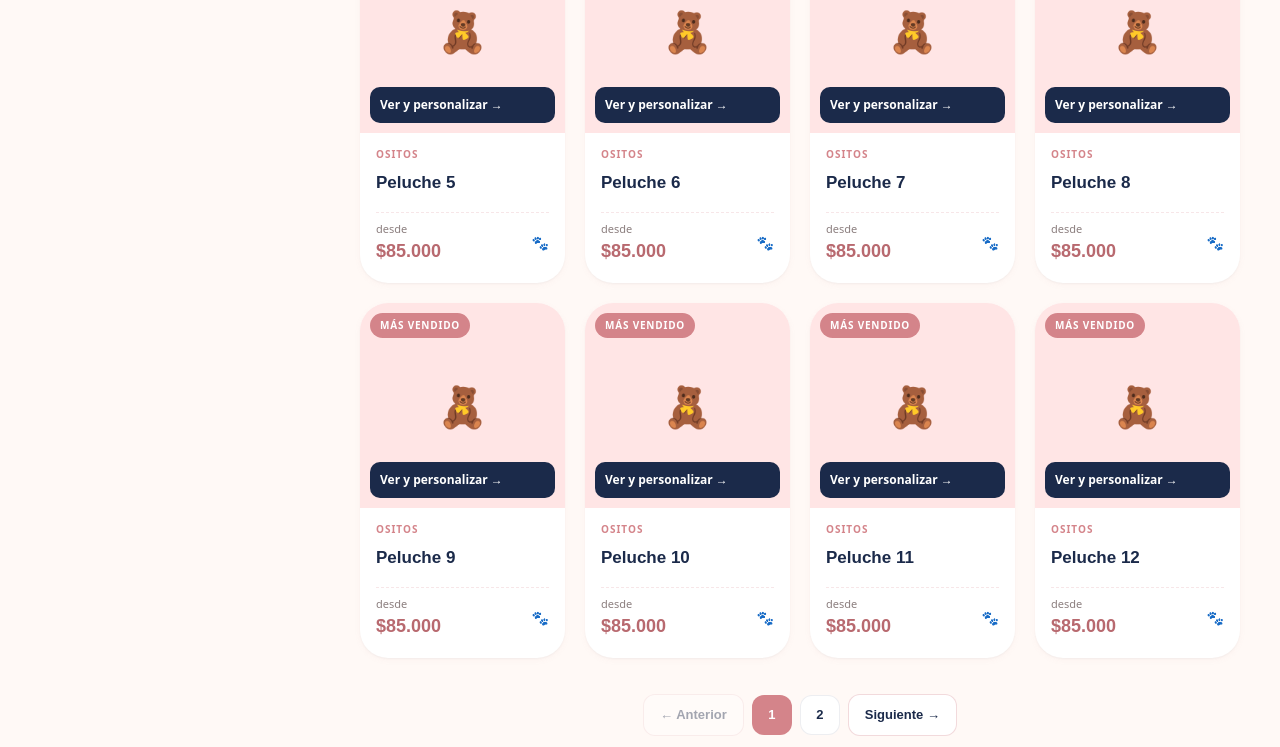
CatalogPage › returns to the first page after applying a catalog order
(page scrolled)
Expected: the heading "Peluche 12" is shown, [1051, 548, 1140, 567]
Click the button with aria-label "página siguiente" at (902, 715), box [848, 694, 957, 736]
(page scrolled)
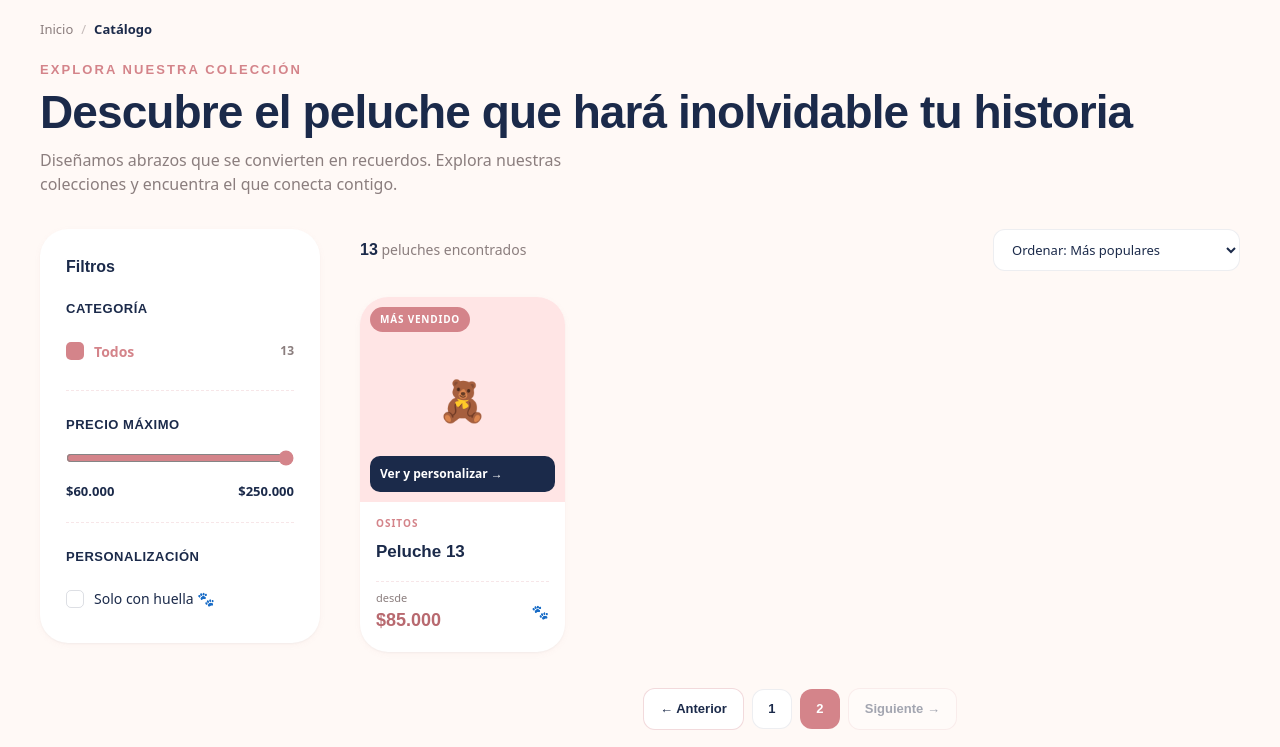
Result: the heading "Peluche 13" is shown at [376, 542, 465, 561]
Select "Ordenar: Precio: menor a mayor" in the dropdown at (1116, 250), box [993, 229, 1240, 271]
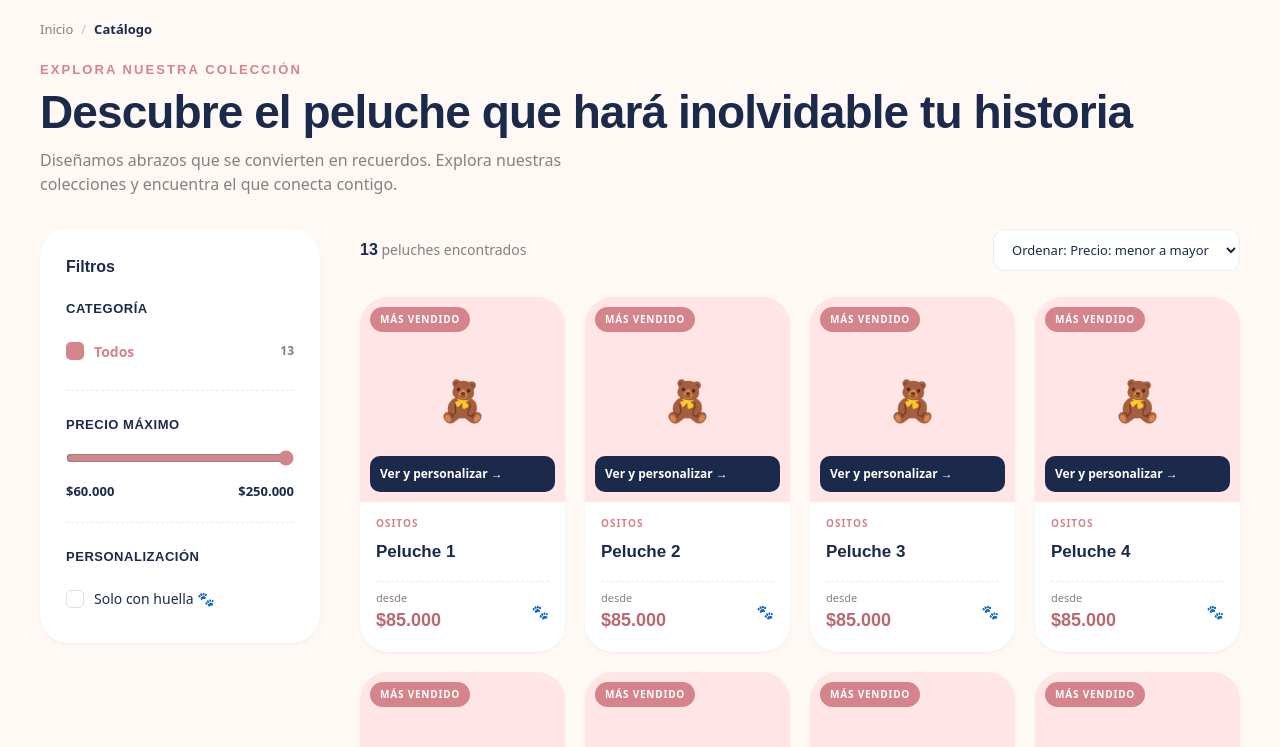
Expected: the heading "Peluche 1" is shown, [376, 542, 455, 561]
Result: the link "Peluche 13" is gone
